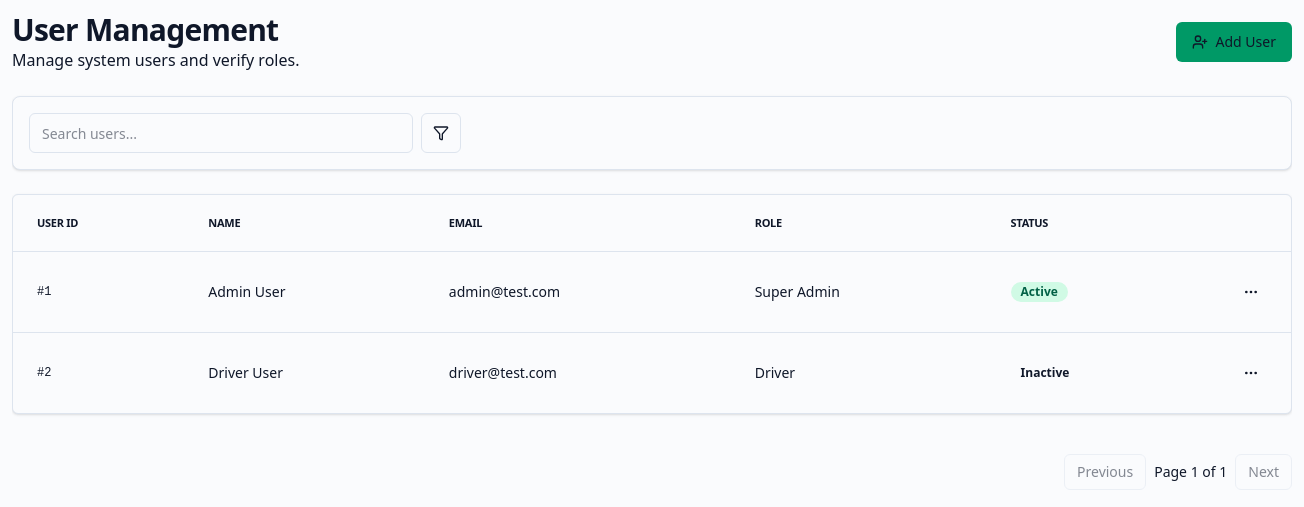
Test case: UsersPage Integration › shows dynamic Deactivate/Activate label based on user status
Expected: the text "admin@test.com" is shown, [425,251,731,332]
Click the button without text in the row of "Admin User": (1251, 292) [1235,276,1267,308]
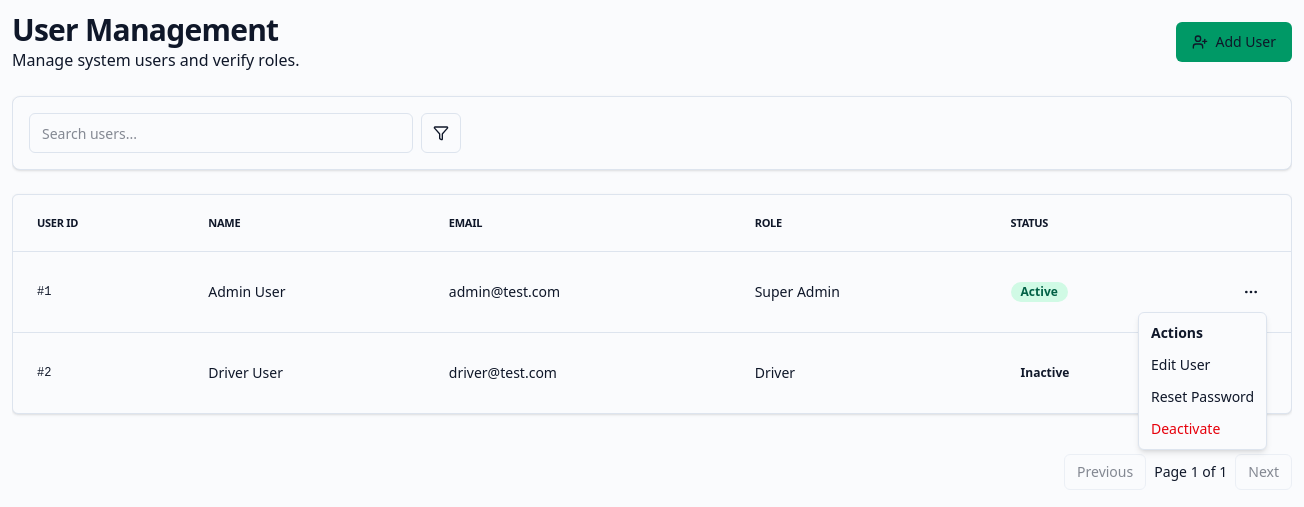
Result: the menu item "Deactivate" is shown at [1151,419,1220,438]
